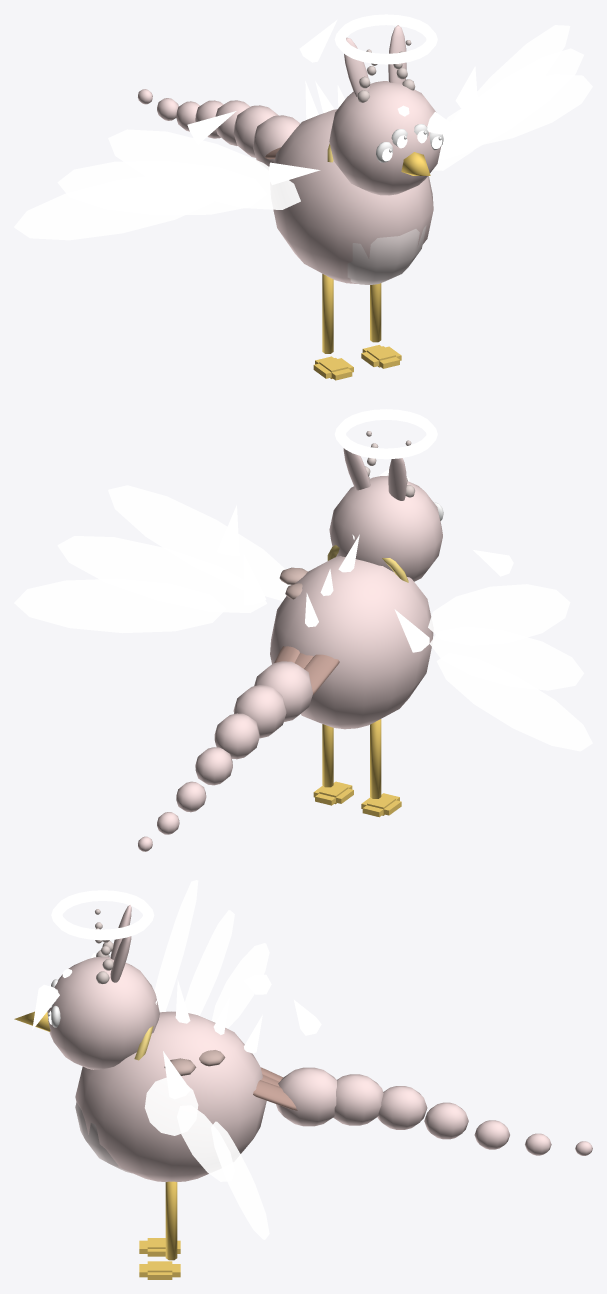
Rendered from boss_09.glb.
The picture shows the model from 3 angles, top to bottom: view 1: azimuth 30°, elevation 25°; view 2: azimuth 150°, elevation 25°; view 3: azimuth 270°, elevation 25°; orthographic projection.
Visible parts, largest first — view 1: ball; view 2: ball; view 3: ball.
Part boxes in pixels (left/top/right/bottom): ball: left=14, top=14, right=592, bottom=380; ball: left=14, top=409, right=592, bottom=851; ball: left=14, top=880, right=592, bottom=1279.
Bounding box in the file's own units: 2.91 × 1.7 × 2.53.
